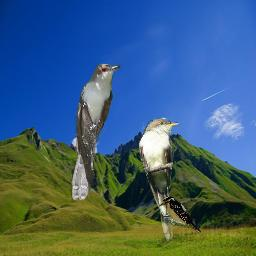Cuckoo: (70, 62, 122, 200), (139, 117, 179, 242)
Woodpecker: (159, 194, 201, 233)
